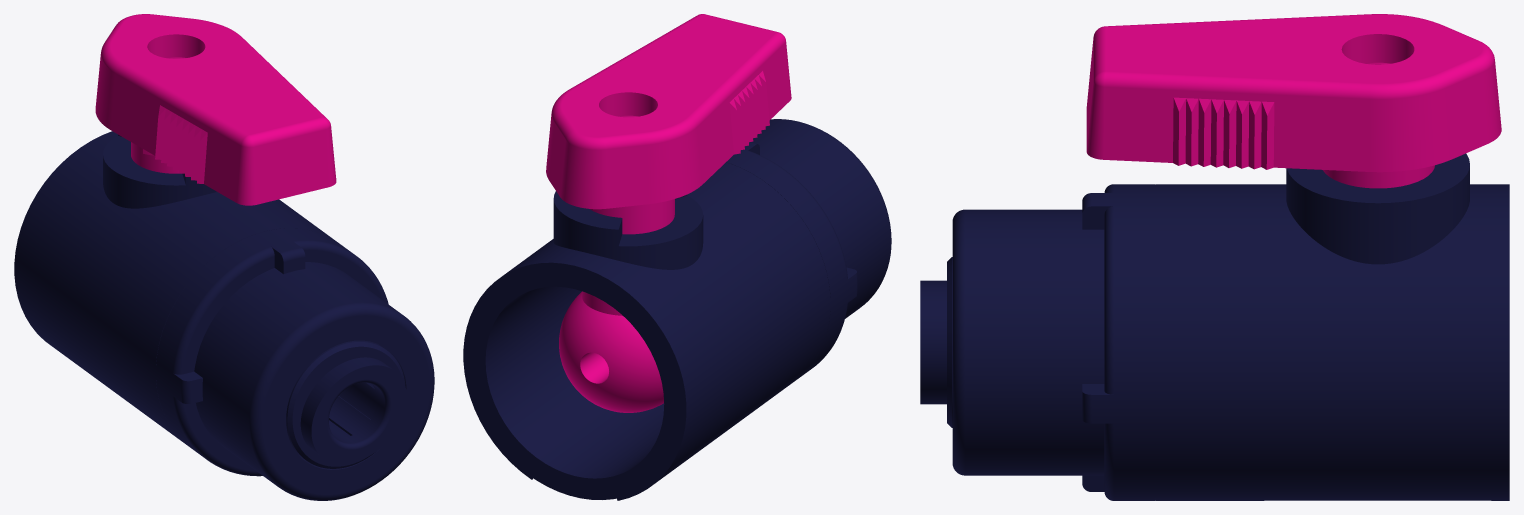
The model's file is valve_onoff_manual_cut.glb.
3 views of the same model, side by side, from view 1: azimuth 30°, elevation 25°; view 2: azimuth 150°, elevation 25°; view 3: azimuth 270°, elevation 25° (orthographic). The views are drawn at different scales.
Parts seen in each view (by area): view 1: 45975K45_Gray PVC On-Off Valve - CUT.SLDPRT; view 2: 45975K45_Gray PVC On-Off Valve - CUT.SLDPRT; view 3: 45975K45_Gray PVC On-Off Valve - CUT.SLDPRT.
Boxes of the visible parts, x1,y1,x2,y2 form: 45975K45_Gray PVC On-Off Valve - CUT.SLDPRT: [14, 14, 434, 500]; 45975K45_Gray PVC On-Off Valve - CUT.SLDPRT: [463, 14, 891, 500]; 45975K45_Gray PVC On-Off Valve - CUT.SLDPRT: [920, 14, 1509, 500].
Size of the model in its own units: 2.54 by 3.86 by 4.73.
